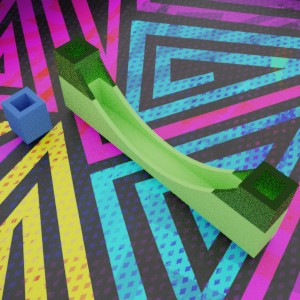lego: (53, 35, 300, 258), (0, 86, 52, 144)
